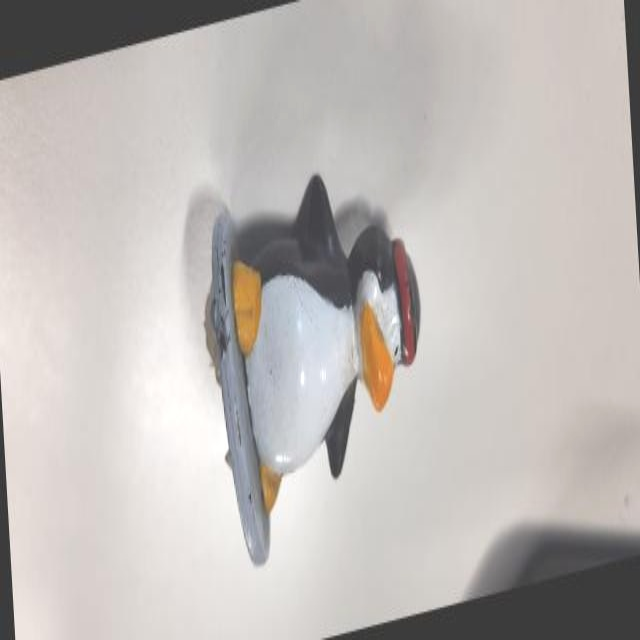Penguin: (189, 139, 443, 597)
